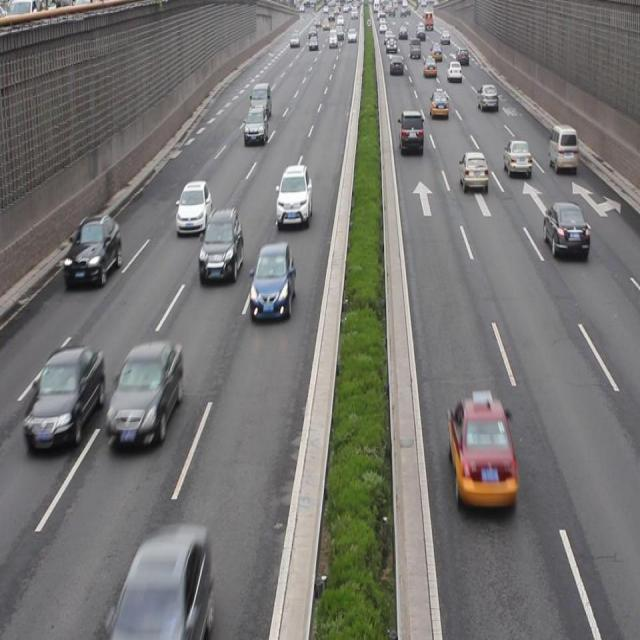car: (113, 527, 210, 640), (446, 390, 517, 515), (108, 341, 184, 446), (24, 349, 104, 446), (64, 212, 122, 287), (249, 245, 294, 322), (199, 207, 243, 284), (543, 204, 588, 259), (175, 180, 214, 238), (276, 165, 311, 228), (458, 150, 488, 196), (502, 139, 531, 180), (397, 110, 423, 155), (243, 105, 267, 144)
truck: (548, 123, 576, 173)
